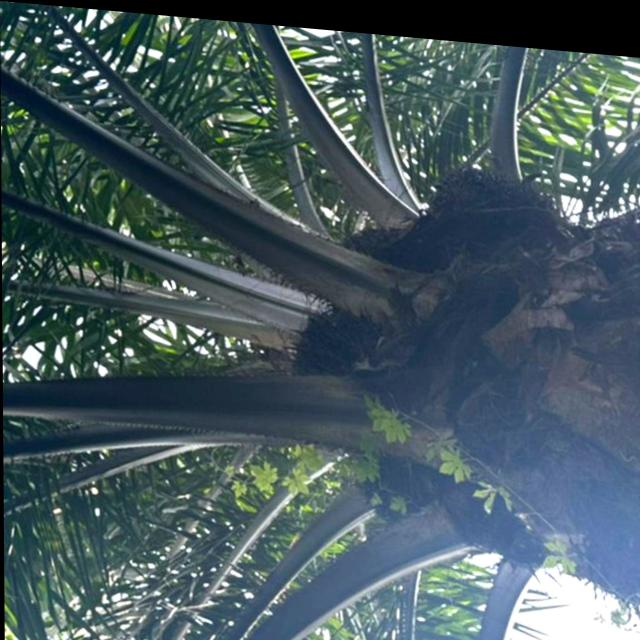almost: (418, 154, 543, 241), (284, 292, 389, 376)
